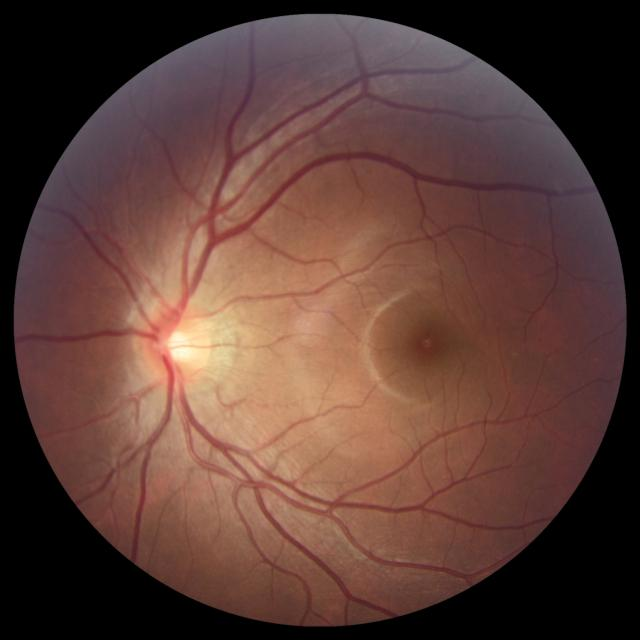OC: (161, 329, 192, 362)
OD: (134, 298, 214, 389)
